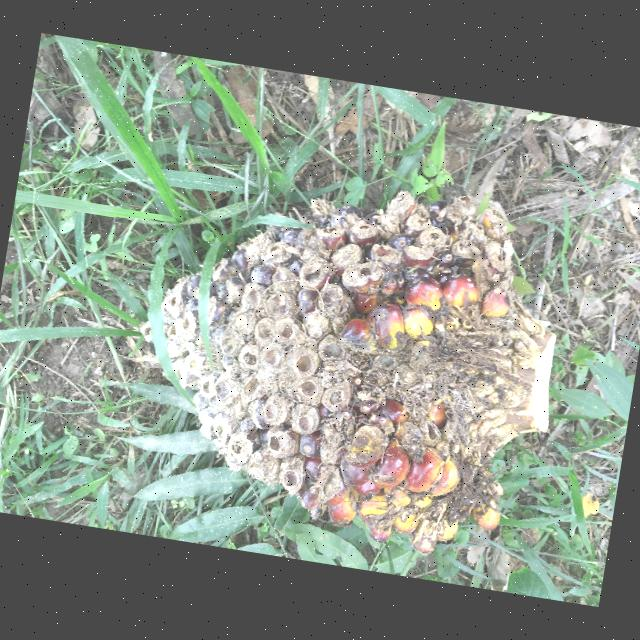Damaged: (133, 187, 525, 547)
